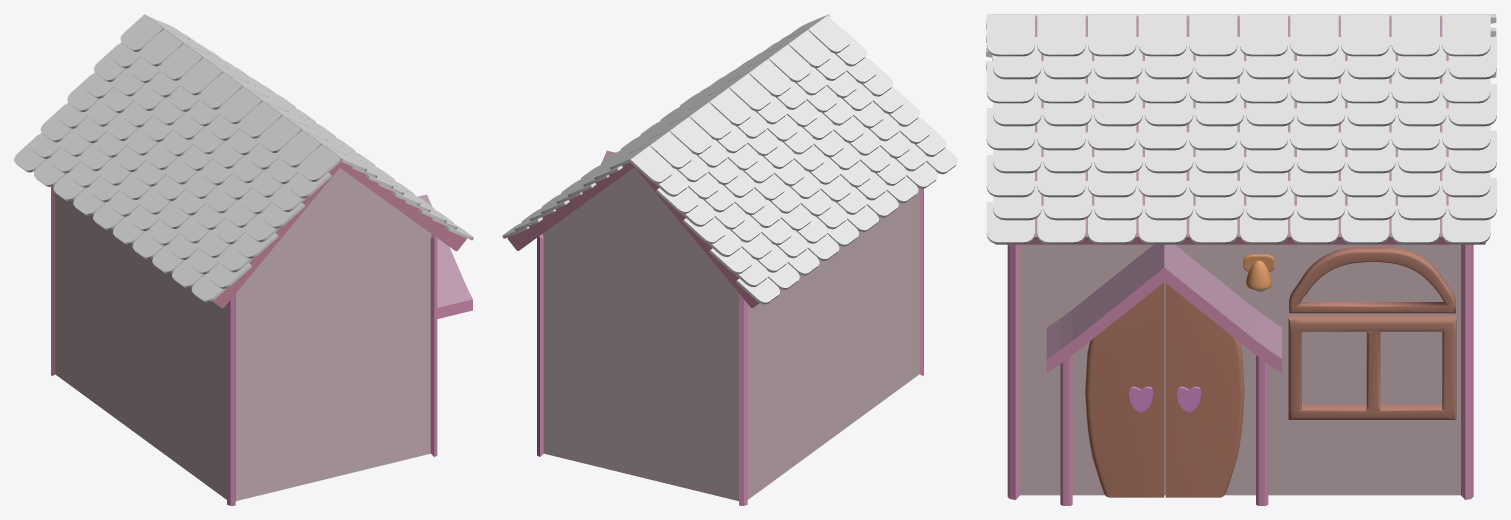
The model's file is PaLLResturant (1).fbx.
The picture shows the model from 3 angles, left to right: view 1: azimuth 30°, elevation 25°; view 2: azimuth 150°, elevation 25°; view 3: azimuth 270°, elevation 25°; orthographic projection. The views are drawn at different scales.
Parts seen in each view (by area): view 1: ResturantBase, Roofing, Tiles.011, TilesBack, Tiles.005, Tiles.007, Tiles.001, Tiles.003, Tiles.006, Tiles.010, Tiles.002, Tiles.009 (+45 smaller); view 2: ResturantBase, TilesBack, Tiles.006, Tiles.001, Tiles.003, Tiles.005, Tiles.010, Tiles.011, Tiles.007, Tiles.009, Tiles.002, Tiles.079 (+61 smaller); view 3: ResturantBase, Roofing, DoorLeft, DoorRight, Window1, WindowCurve1, TilesFront, Tiles.004, Tiles.008, Tiles.036, Tiles.016, Tiles.028 (+85 smaller).
Boxes of the visible parts, left/top/right/bottom form: ResturantBase: left=51, top=29, right=466, bottom=505; Roofing: left=418, top=194, right=472, bottom=318; Tiles.011: left=298, top=144, right=340, bottom=181; TilesBack: left=120, top=14, right=163, bottom=51; Tiles.005: left=199, top=72, right=241, bottom=109; Tiles.007: left=239, top=101, right=281, bottom=138; Tiles.001: left=140, top=28, right=182, bottom=66; Tiles.003: left=179, top=57, right=222, bottom=95; Tiles.006: left=219, top=87, right=261, bottom=123; Tiles.010: left=278, top=130, right=321, bottom=167; Tiles.002: left=160, top=43, right=202, bottom=80; Tiles.009: left=258, top=115, right=301, bottom=152; ResturantBase: left=507, top=30, right=923, bottom=505; TilesBack: left=629, top=146, right=673, bottom=183; Tiles.006: left=729, top=74, right=772, bottom=111; Tiles.001: left=650, top=131, right=693, bottom=169; Tiles.003: left=690, top=102, right=732, bottom=140; Tiles.005: left=710, top=88, right=752, bottom=125; Tiles.010: left=789, top=30, right=831, bottom=67; Tiles.011: left=809, top=16, right=851, bottom=53; Tiles.007: left=749, top=59, right=791, bottom=96; Tiles.009: left=769, top=45, right=811, bottom=82; Tiles.002: left=670, top=117, right=712, bottom=154; Tiles.079: left=709, top=247, right=753, bottom=274; ResturantBase: left=995, top=16, right=1485, bottom=499; Roofing: left=1046, top=244, right=1281, bottom=505; DoorLeft: left=1085, top=282, right=1164, bottom=497; DoorRight: left=1165, top=283, right=1244, bottom=497; Window1: left=1288, top=315, right=1456, bottom=419; WindowCurve1: left=1289, top=247, right=1455, bottom=313; TilesFront: left=986, top=14, right=1034, bottom=56; Tiles.004: left=1037, top=14, right=1085, bottom=56; Tiles.008: left=1088, top=14, right=1136, bottom=56; Tiles.036: left=1442, top=14, right=1490, bottom=56; Tiles.016: left=1189, top=14, right=1237, bottom=56; Tiles.028: left=1341, top=14, right=1389, bottom=56.
Size of the model in its own units: 558 by 609 by 671.
